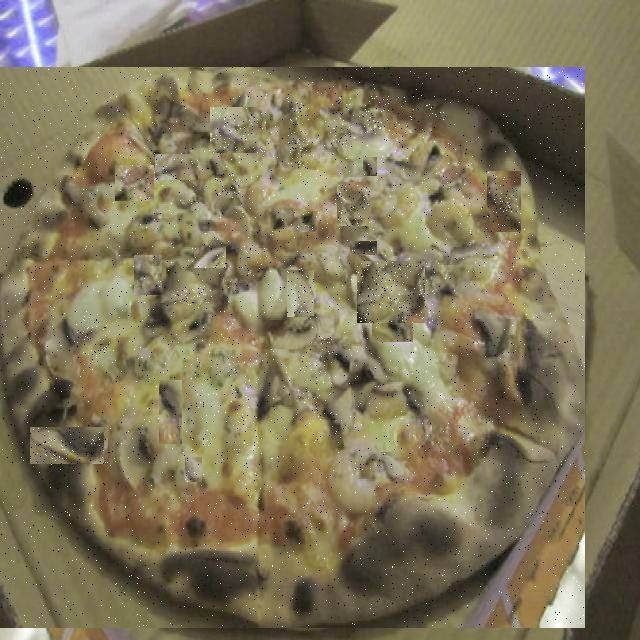Mushrooms: (186, 352, 260, 453), (357, 262, 425, 323), (363, 94, 437, 134), (299, 337, 334, 420), (30, 428, 104, 464), (210, 108, 266, 153), (487, 172, 521, 232), (254, 314, 310, 349), (74, 311, 112, 354), (288, 101, 311, 169), (159, 382, 182, 446), (337, 184, 370, 228), (515, 322, 540, 380), (115, 166, 154, 201), (288, 272, 316, 318), (372, 312, 413, 342), (330, 96, 352, 147), (155, 156, 198, 182), (134, 256, 162, 295), (438, 432, 454, 494), (236, 247, 269, 277), (169, 287, 213, 305), (215, 172, 243, 198), (194, 248, 226, 270), (294, 212, 317, 232), (185, 458, 202, 482), (350, 242, 377, 255), (363, 158, 377, 176)
Pizza: (0, 67, 585, 627)
